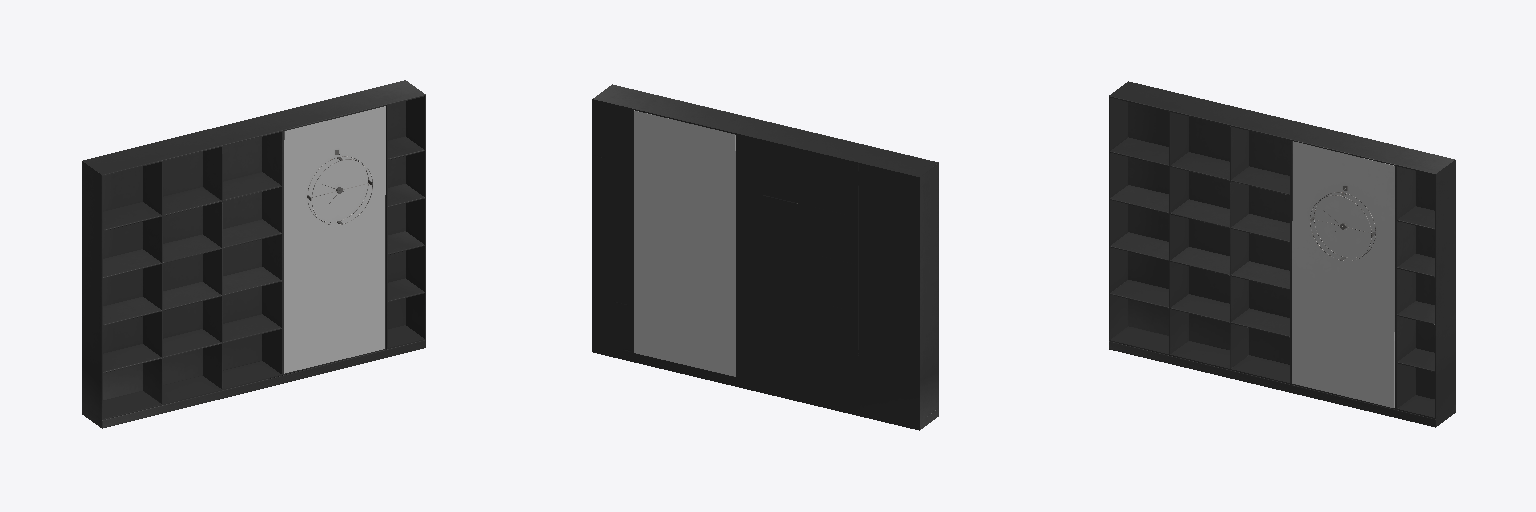
3 renders of one model, left to right at view 1: azimuth 30°, elevation 25°; view 2: azimuth 150°, elevation 25°; view 3: azimuth 330°, elevation 25°, orthographic.
Visible parts, largest first — view 1: solid_001, solid_002; view 2: solid_001, solid_002; view 3: solid_001, solid_002.
Boxes of the visible parts, x1=… form: solid_001: x1=82, y1=80, x2=425, y2=428; solid_002: x1=284, y1=106, x2=385, y2=373; solid_001: x1=592, y1=84, x2=938, y2=430; solid_002: x1=634, y1=110, x2=735, y2=376; solid_001: x1=1109, y1=81, x2=1455, y2=427; solid_002: x1=1292, y1=141, x2=1394, y2=407.
Size of the model in its own units: 3.28 by 2.44 by 0.4507.
1 materials, 1 textured.